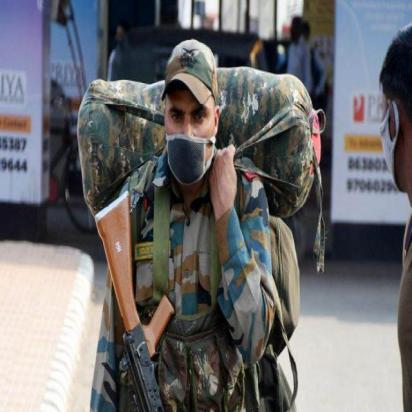Gun: (92, 188, 177, 411)
